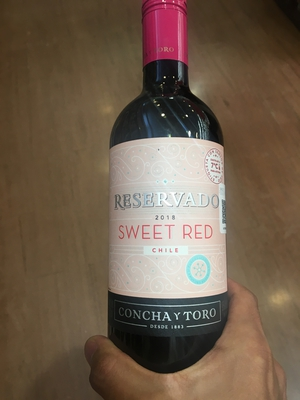reservado sweet red: (108, 21, 233, 371)
